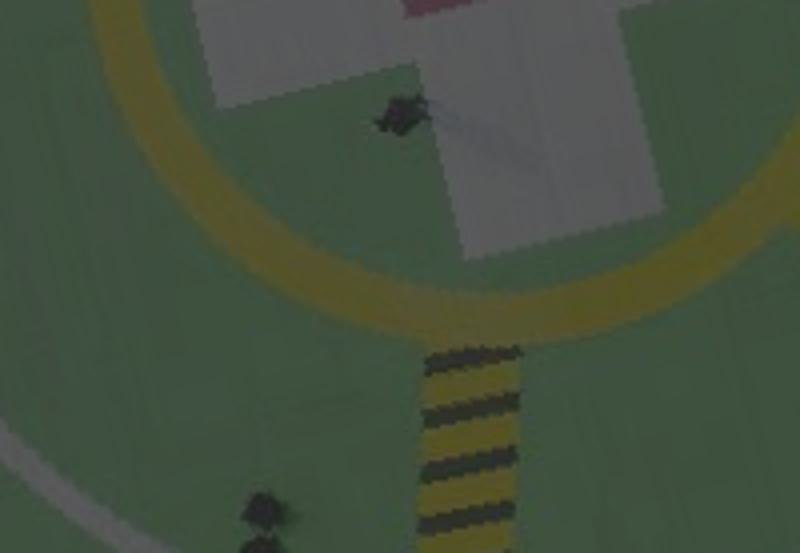Apron: (73, 2, 800, 379)
